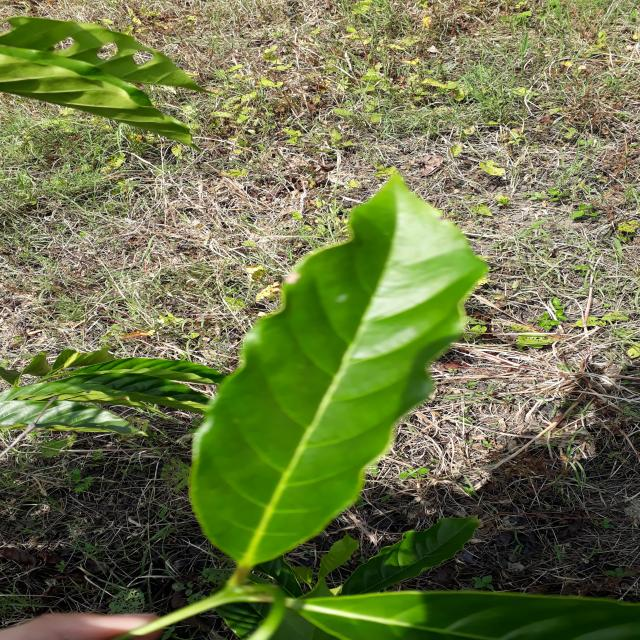Sanas: (187, 174, 488, 618)
